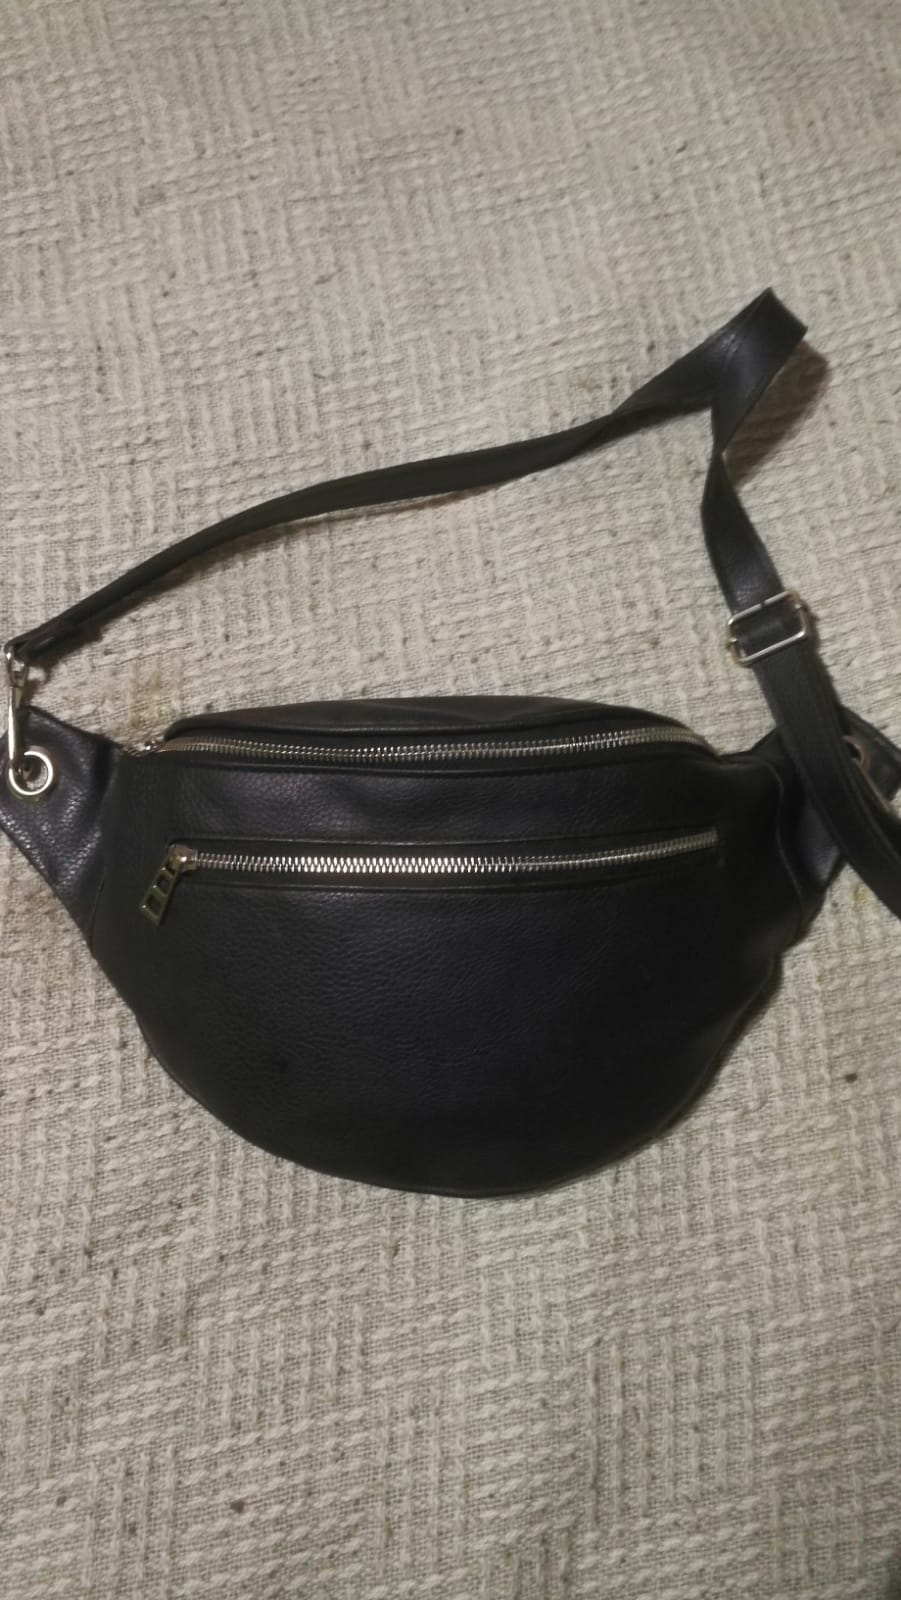cartera: (9, 365, 901, 1184)
cuero: (329, 918, 529, 1080)
